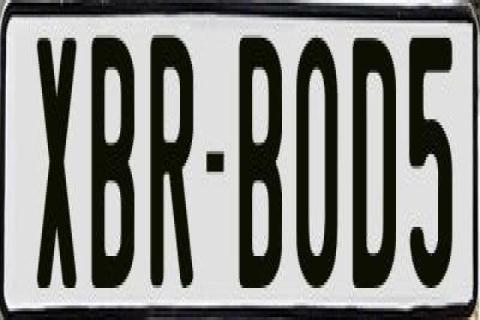0: (294, 35, 338, 294), (410, 29, 453, 288)
B: (237, 38, 286, 302), (90, 32, 140, 285)
D: (354, 35, 398, 291)
R: (146, 26, 194, 282)
X: (38, 38, 80, 302)
